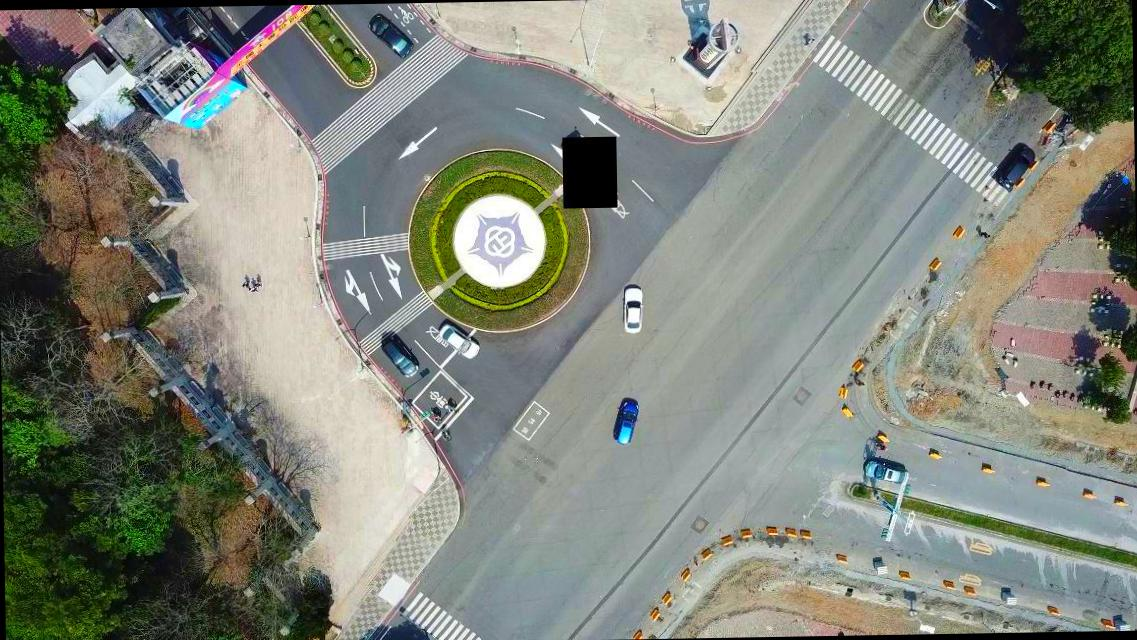vehicle: (368, 12, 415, 61), (995, 142, 1037, 192), (380, 336, 419, 380), (438, 322, 480, 362), (620, 285, 645, 334), (862, 456, 905, 484), (614, 400, 638, 445)
